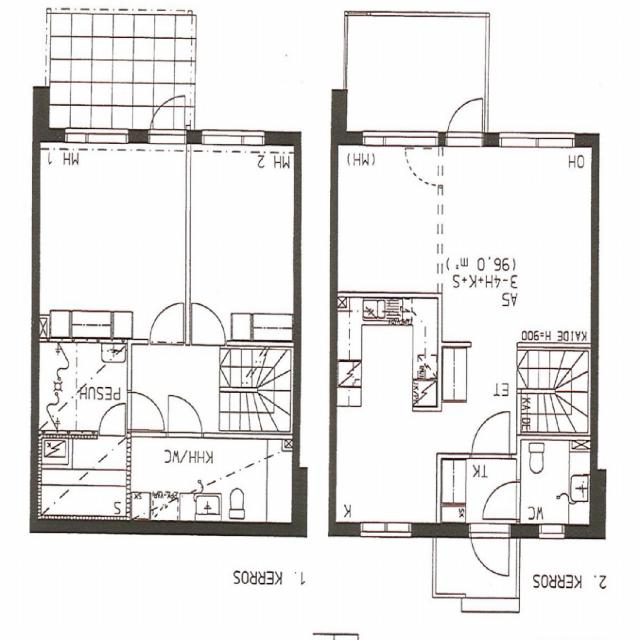door: (471, 524, 509, 582), (149, 92, 184, 146), (447, 92, 482, 146), (472, 414, 509, 459), (168, 398, 201, 441), (150, 305, 183, 348), (192, 305, 225, 348), (127, 393, 164, 430), (485, 483, 521, 519), (98, 406, 125, 443)
